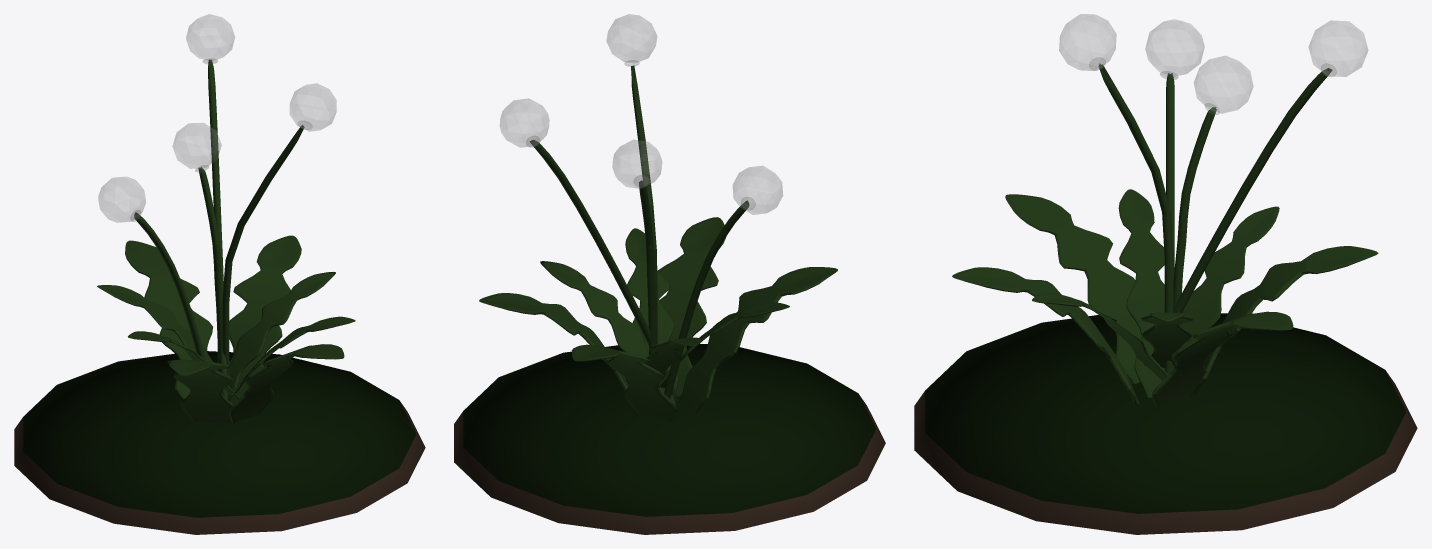
File: Dandelion_428.obj
The picture shows the model from 3 angles, left to right: view 1: azimuth 30°, elevation 25°; view 2: azimuth 150°, elevation 25°; view 3: azimuth 270°, elevation 25°; orthographic projection. The views are drawn at different scales.
Parts seen in each view (by area): view 1: Sphere001, Box005; view 2: Sphere001, Box005; view 3: Sphere001, Box005.
Part boxes in pixels (left/top/right/bottom): Sphere001: left=14, top=351, right=425, bottom=534; Box005: left=97, top=14, right=355, bottom=423; Sphere001: left=454, top=344, right=885, bottom=534; Box005: left=479, top=14, right=837, bottom=421; Sphere001: left=914, top=313, right=1417, bottom=534; Box005: left=952, top=14, right=1378, bottom=408.
Size of the model in its own units: 148 by 146 by 147.
